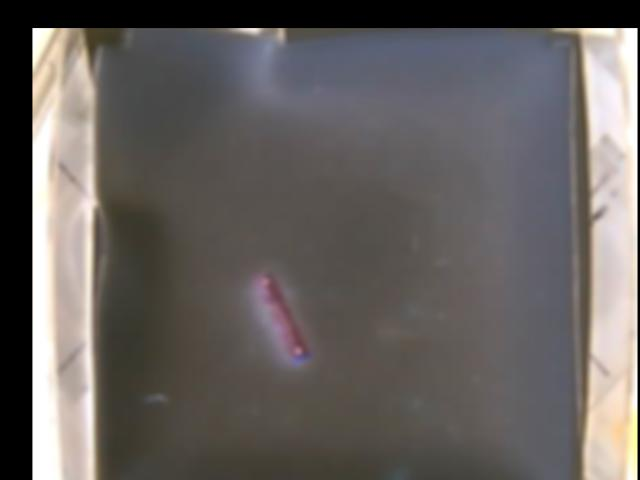Battery: (253, 272, 317, 365)
